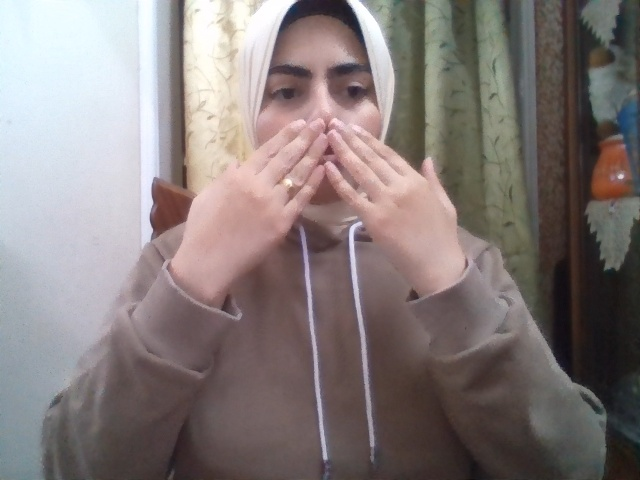thanks: (175, 118, 460, 274)
